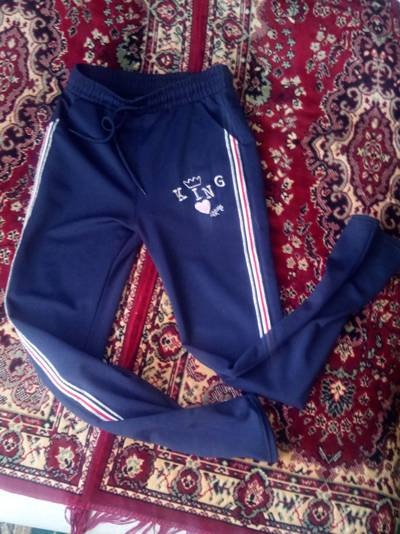Pants: (14, 39, 382, 476)
